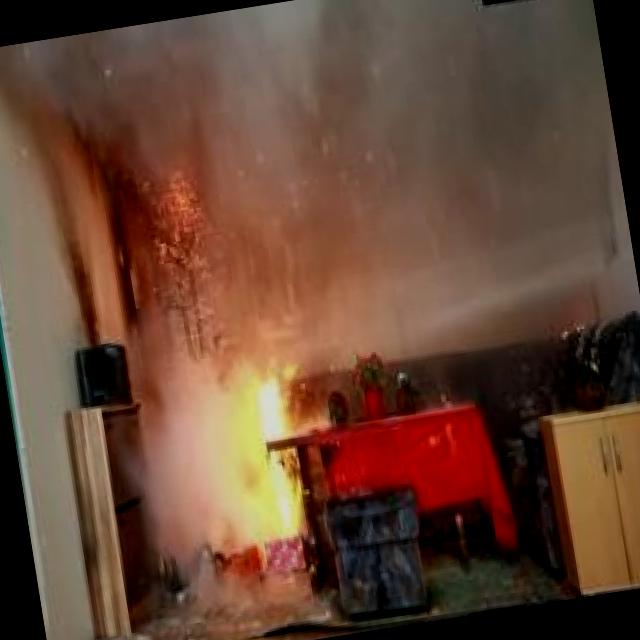fire: (206, 354, 325, 526)
smoke: (126, 346, 216, 564)
